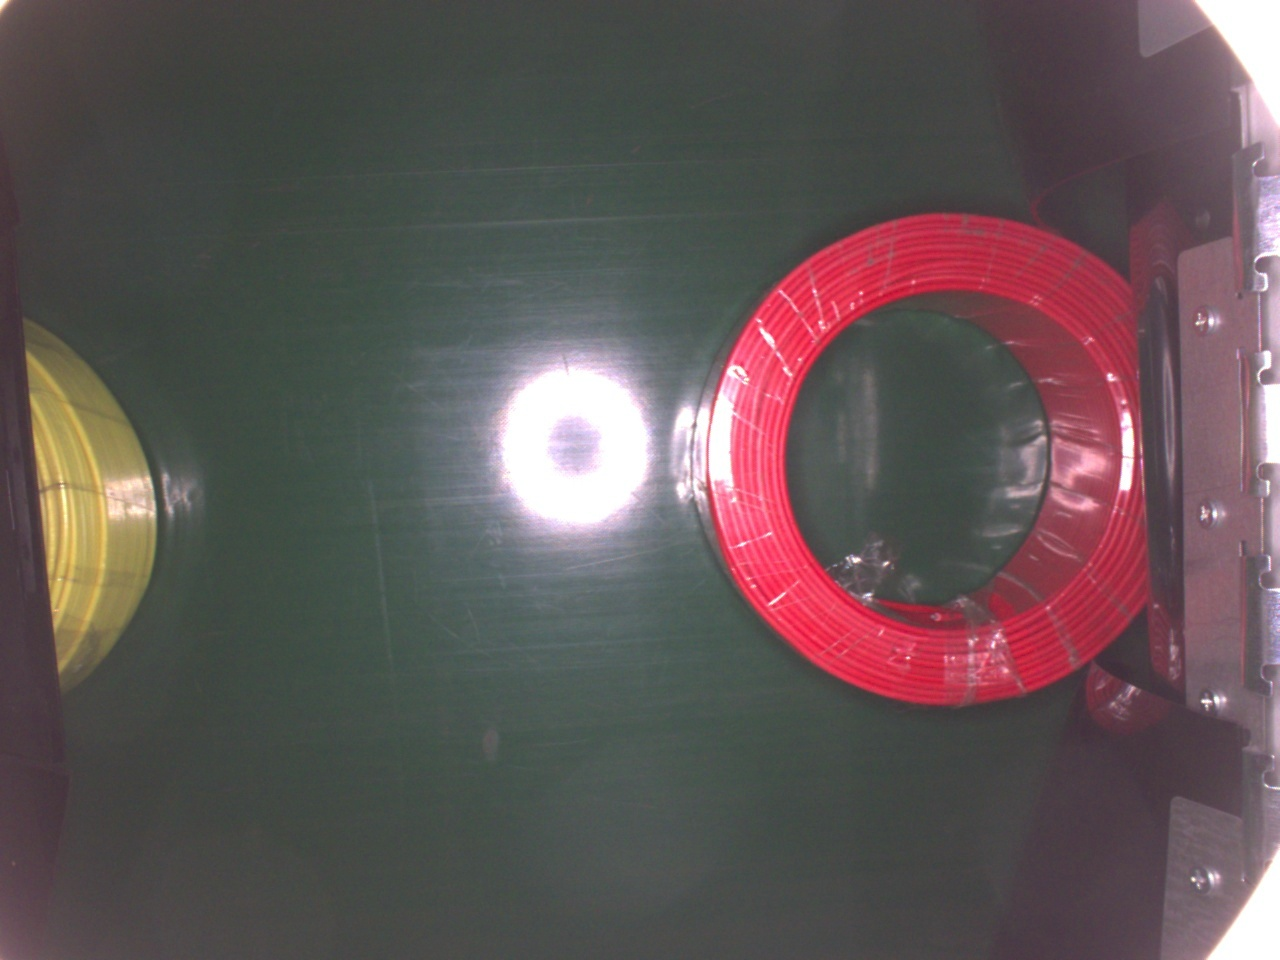red: (692, 207, 1154, 712)
yellow: (24, 318, 165, 696)
